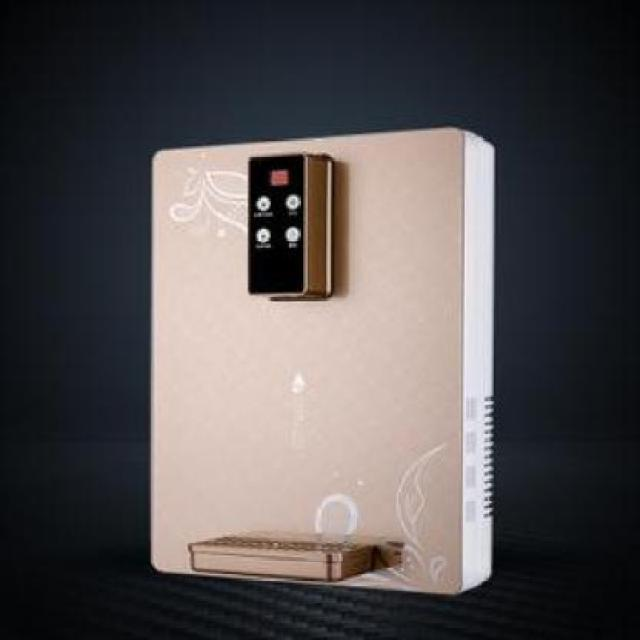cooler: (145, 123, 504, 595)
